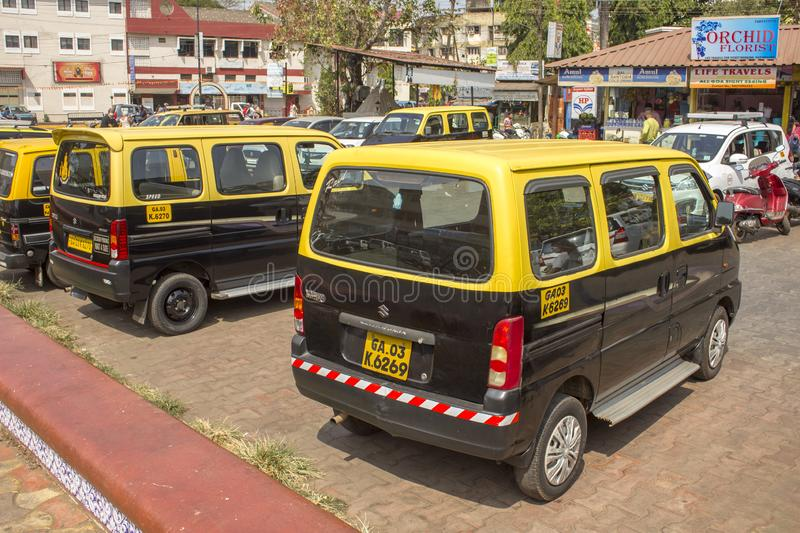doublelinenumberplate: (355, 330, 413, 382), (535, 282, 573, 320), (143, 201, 172, 225)
